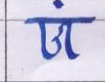anusvara: (53, 2, 63, 8)
